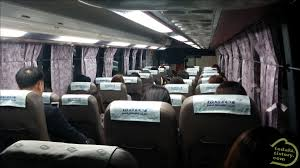seat: (11, 125, 135, 164)
